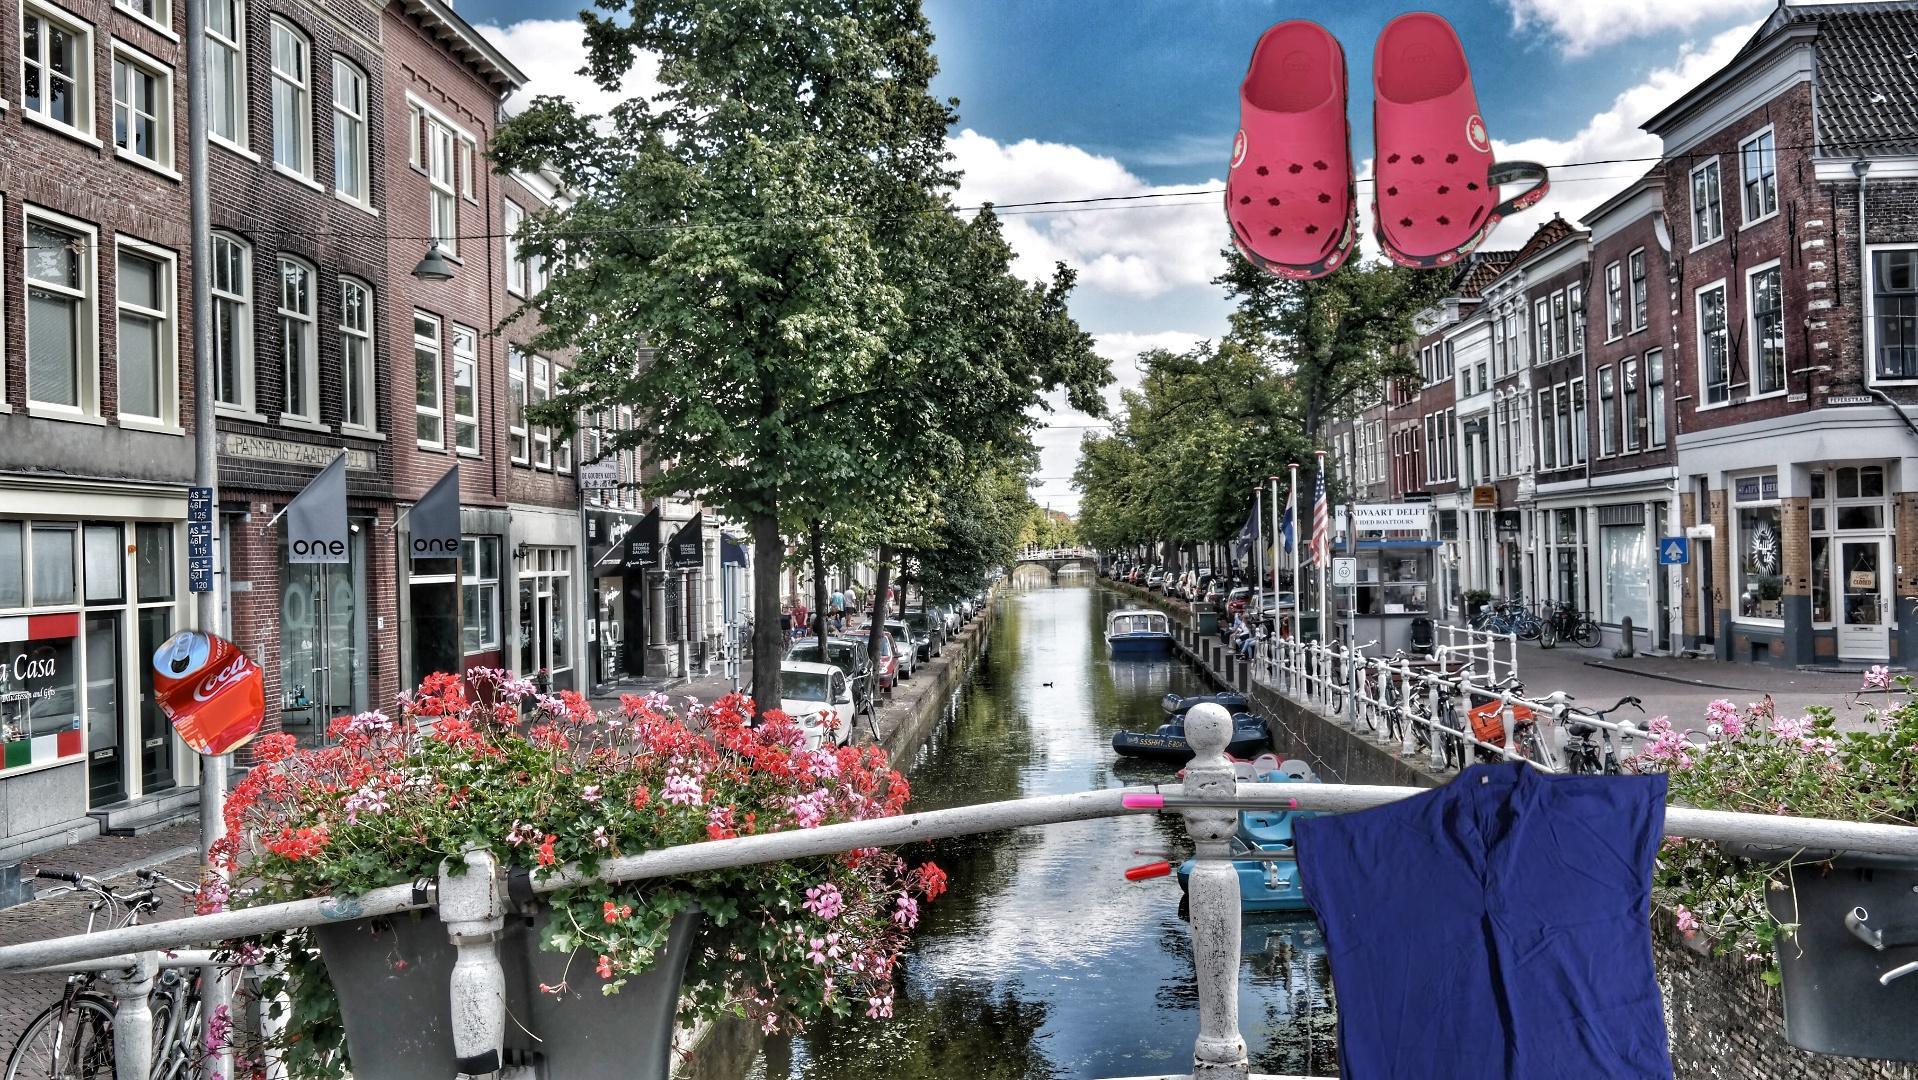clothes: (1288, 753, 1684, 1080)
metal-cans: (148, 624, 271, 763)
penholder: (1116, 743, 1307, 884)
shoes: (1220, 7, 1553, 286)
